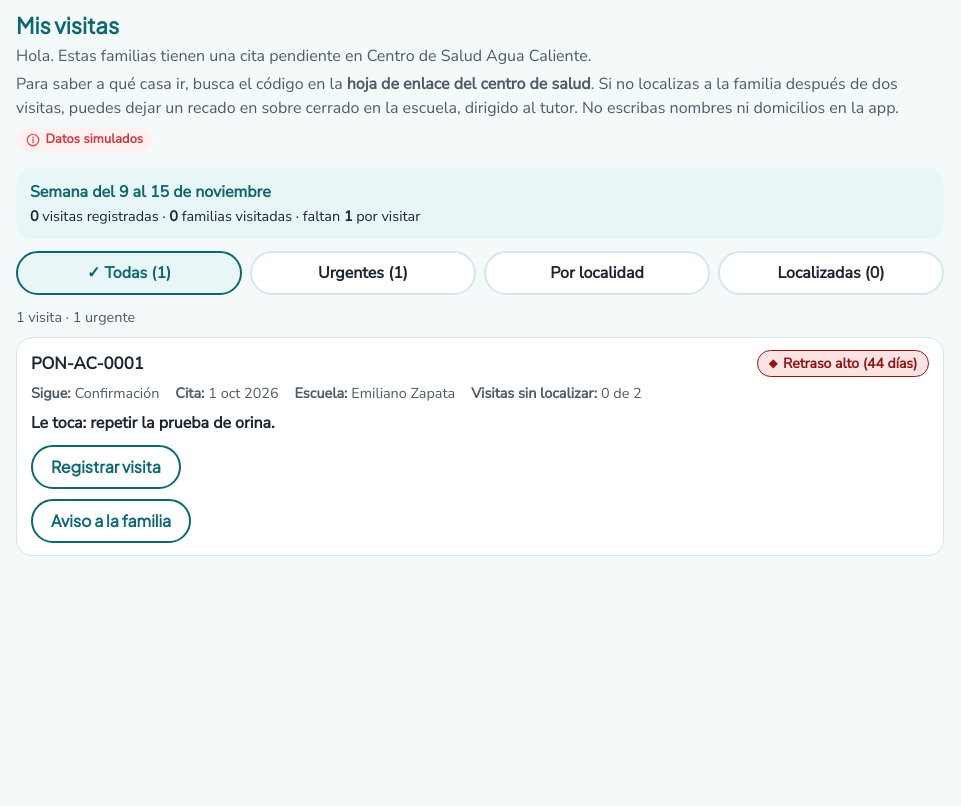
Test: Registrar visita (HU05) › con la segunda visita sin localizar en rojo, avisa y marca sin seguimiento
Click the button "Registrar visita": (106, 467) [31, 445, 181, 489]
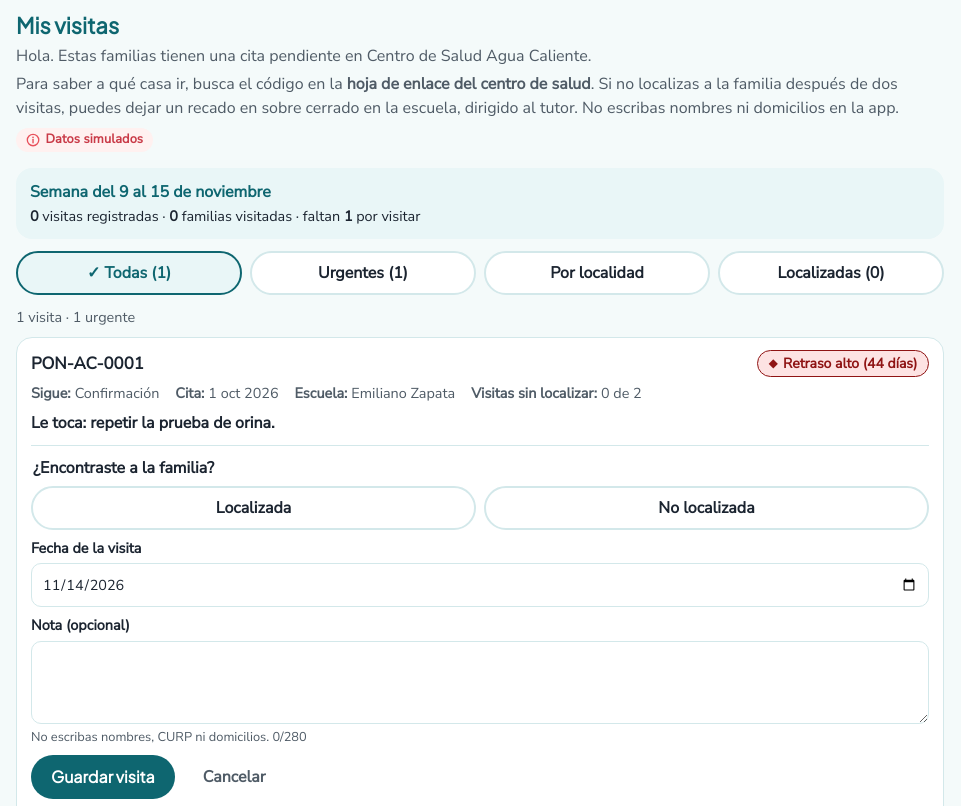
Click the button "No localizada": (706, 508) [484, 486, 929, 530]
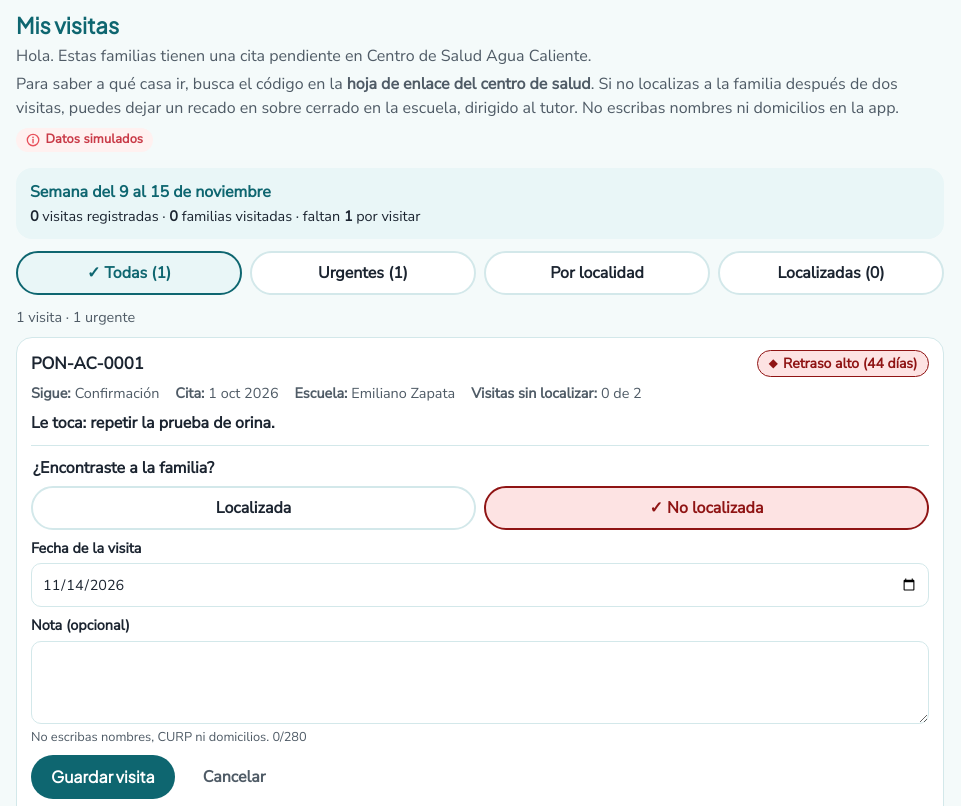
Click the button "Guardar visita": (103, 777) [31, 755, 175, 799]
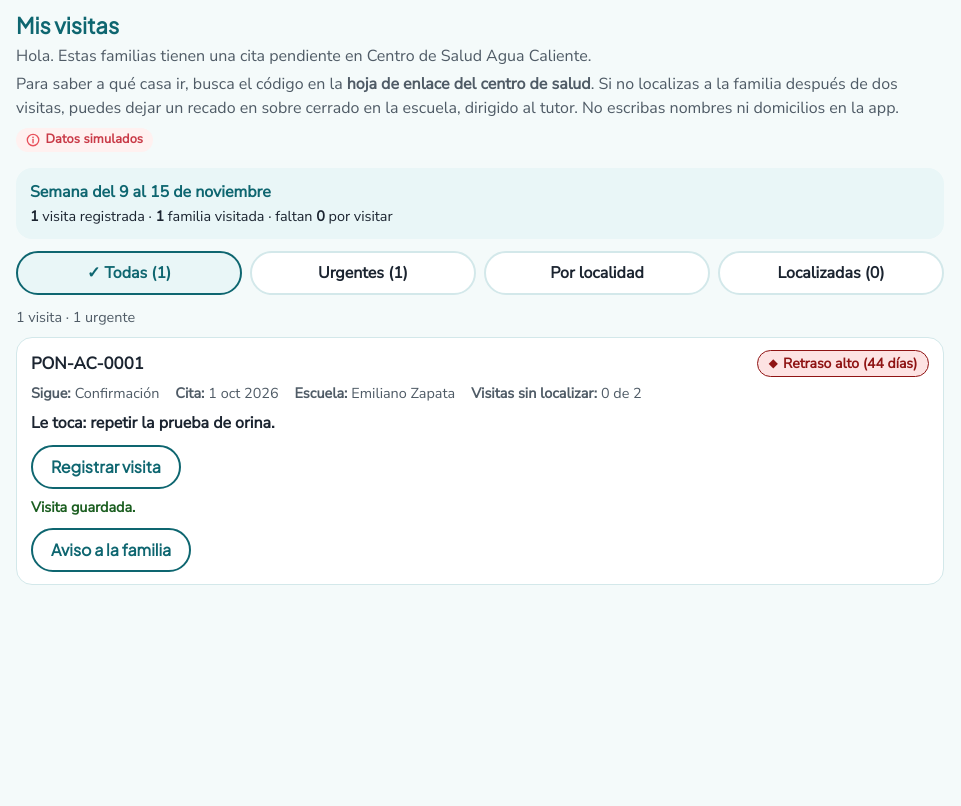
Result: the message "Visita guardada." is shown at [31, 497, 135, 517]
Click the button "Registrar visita": (106, 467) [31, 445, 181, 489]
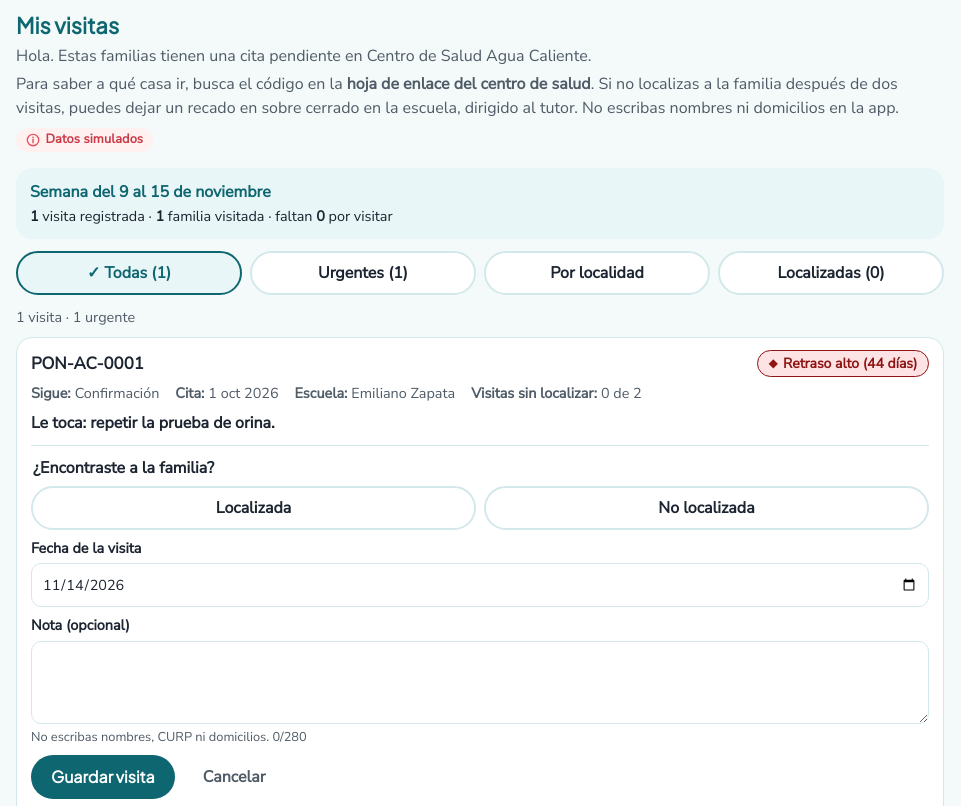
Click the button "No localizada": (706, 508) [484, 486, 929, 530]
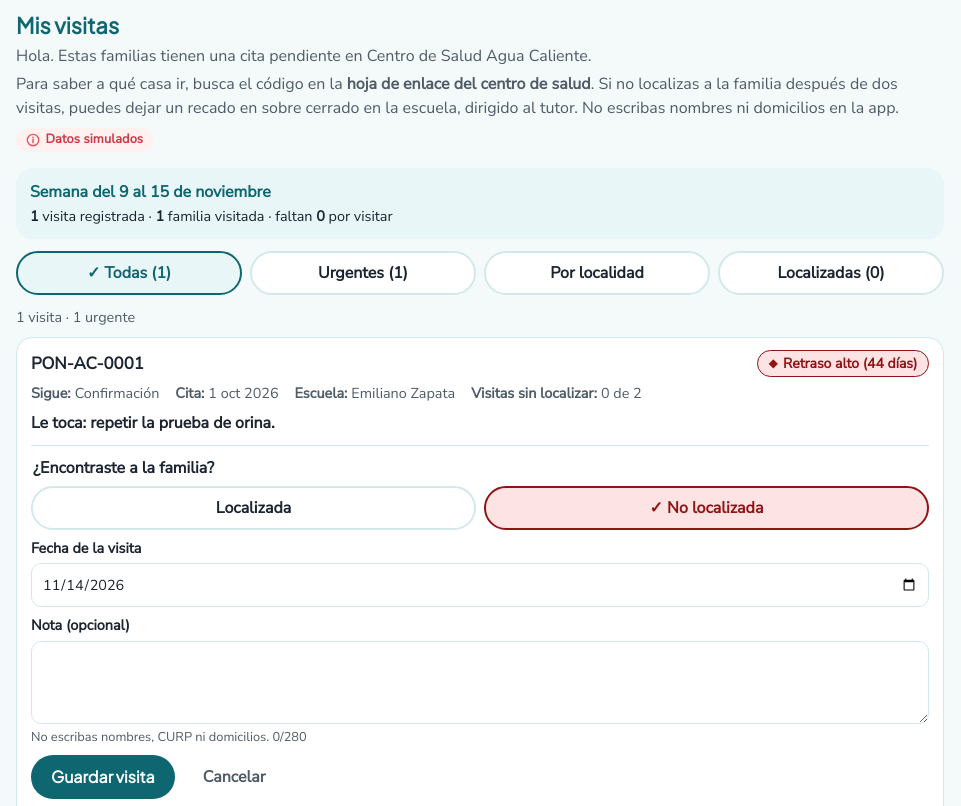
Click the button "Guardar visita": (103, 777) [31, 755, 175, 799]
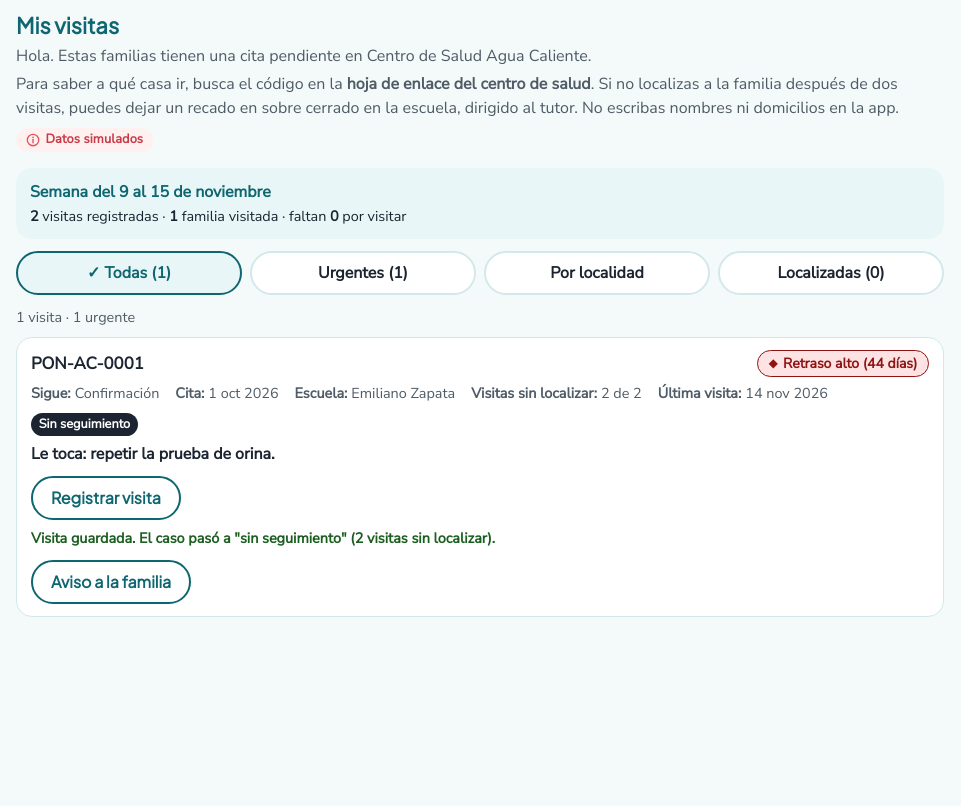
Result: the message shows "sin seguimiento" at [31, 528, 495, 548]
Result: the text "Sin seguimiento" is shown at [31, 413, 138, 436]
